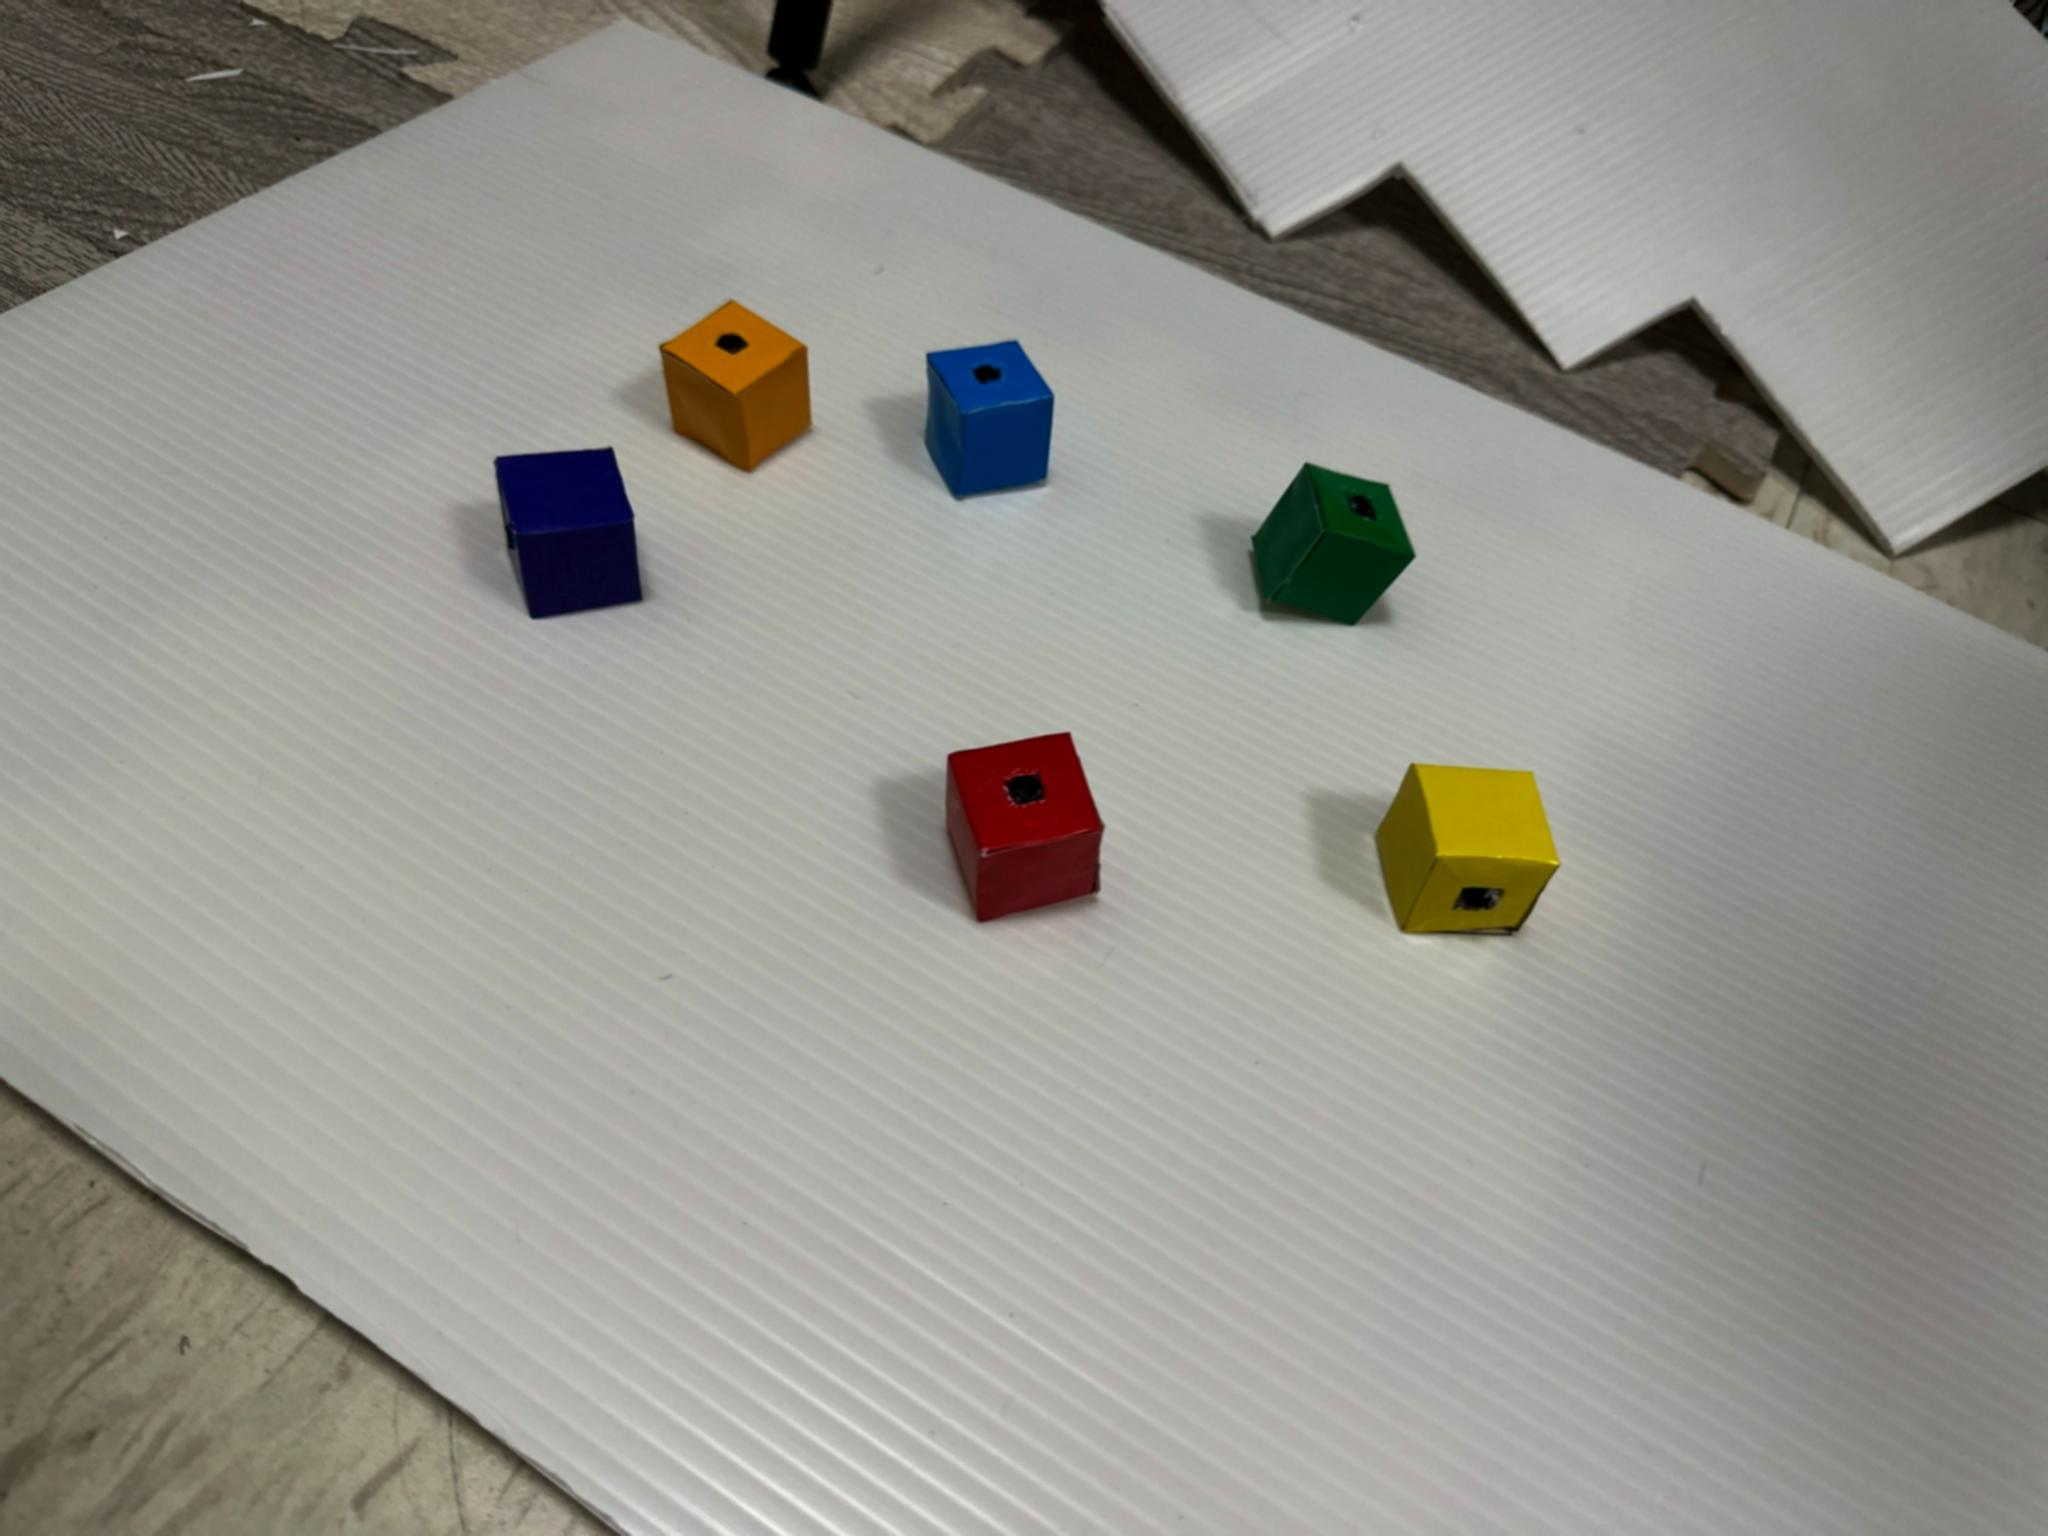cube: (1377, 765, 1558, 933), (948, 734, 1101, 921), (661, 302, 810, 471), (1253, 465, 1413, 621), (497, 450, 642, 616), (927, 342, 1053, 495)
